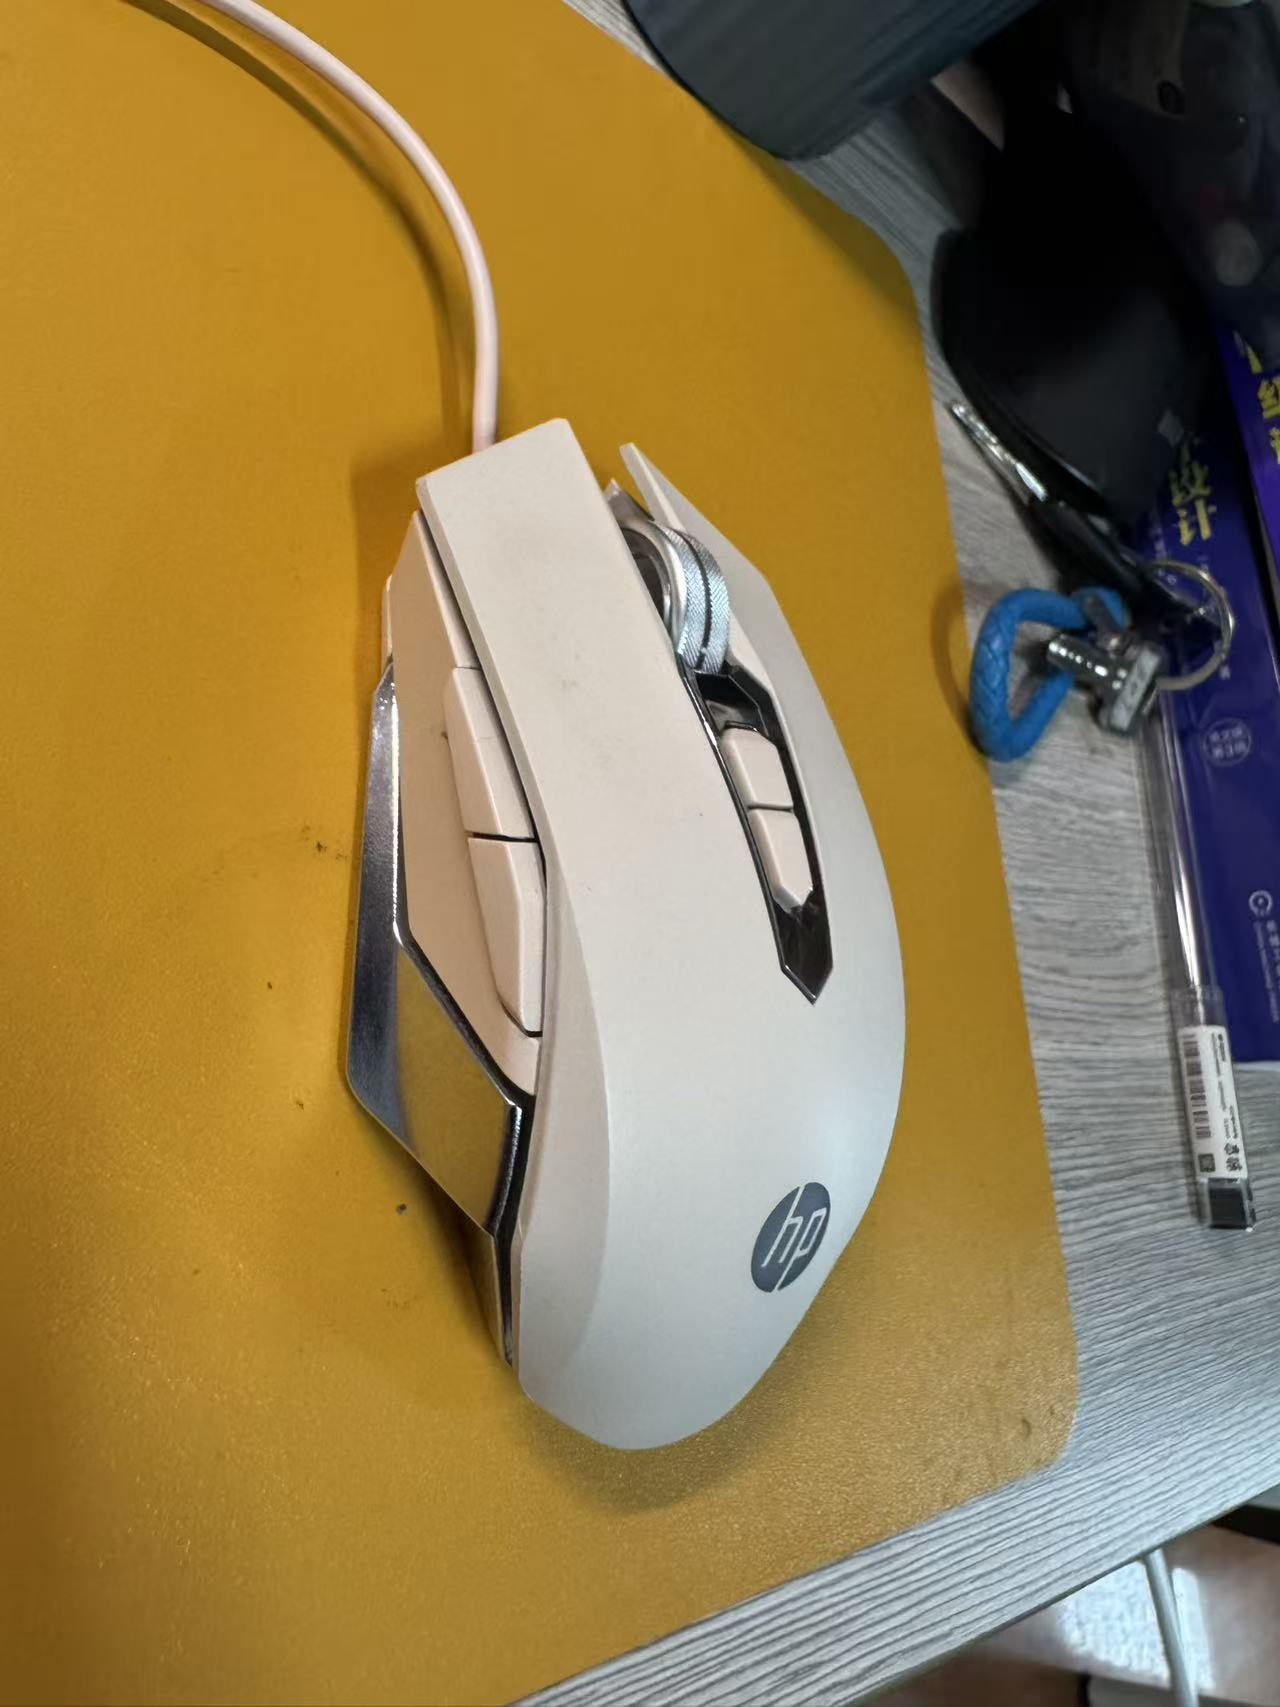mouse: (335, 383, 925, 1476)
